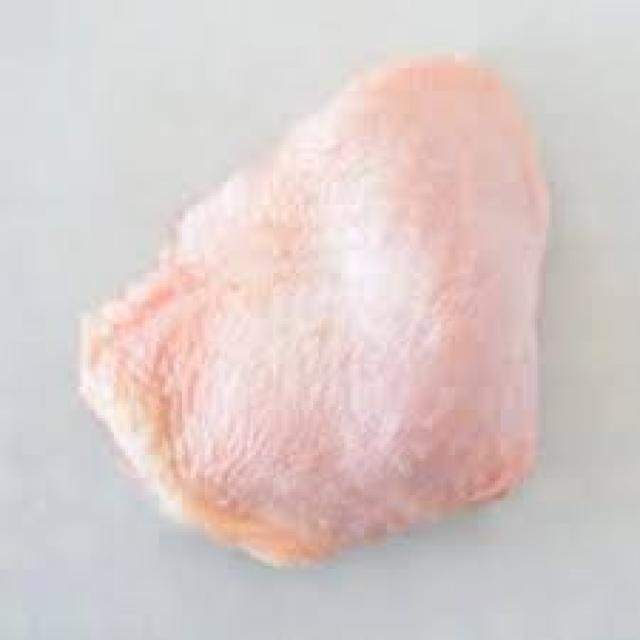thigh: (33, 26, 596, 594)
